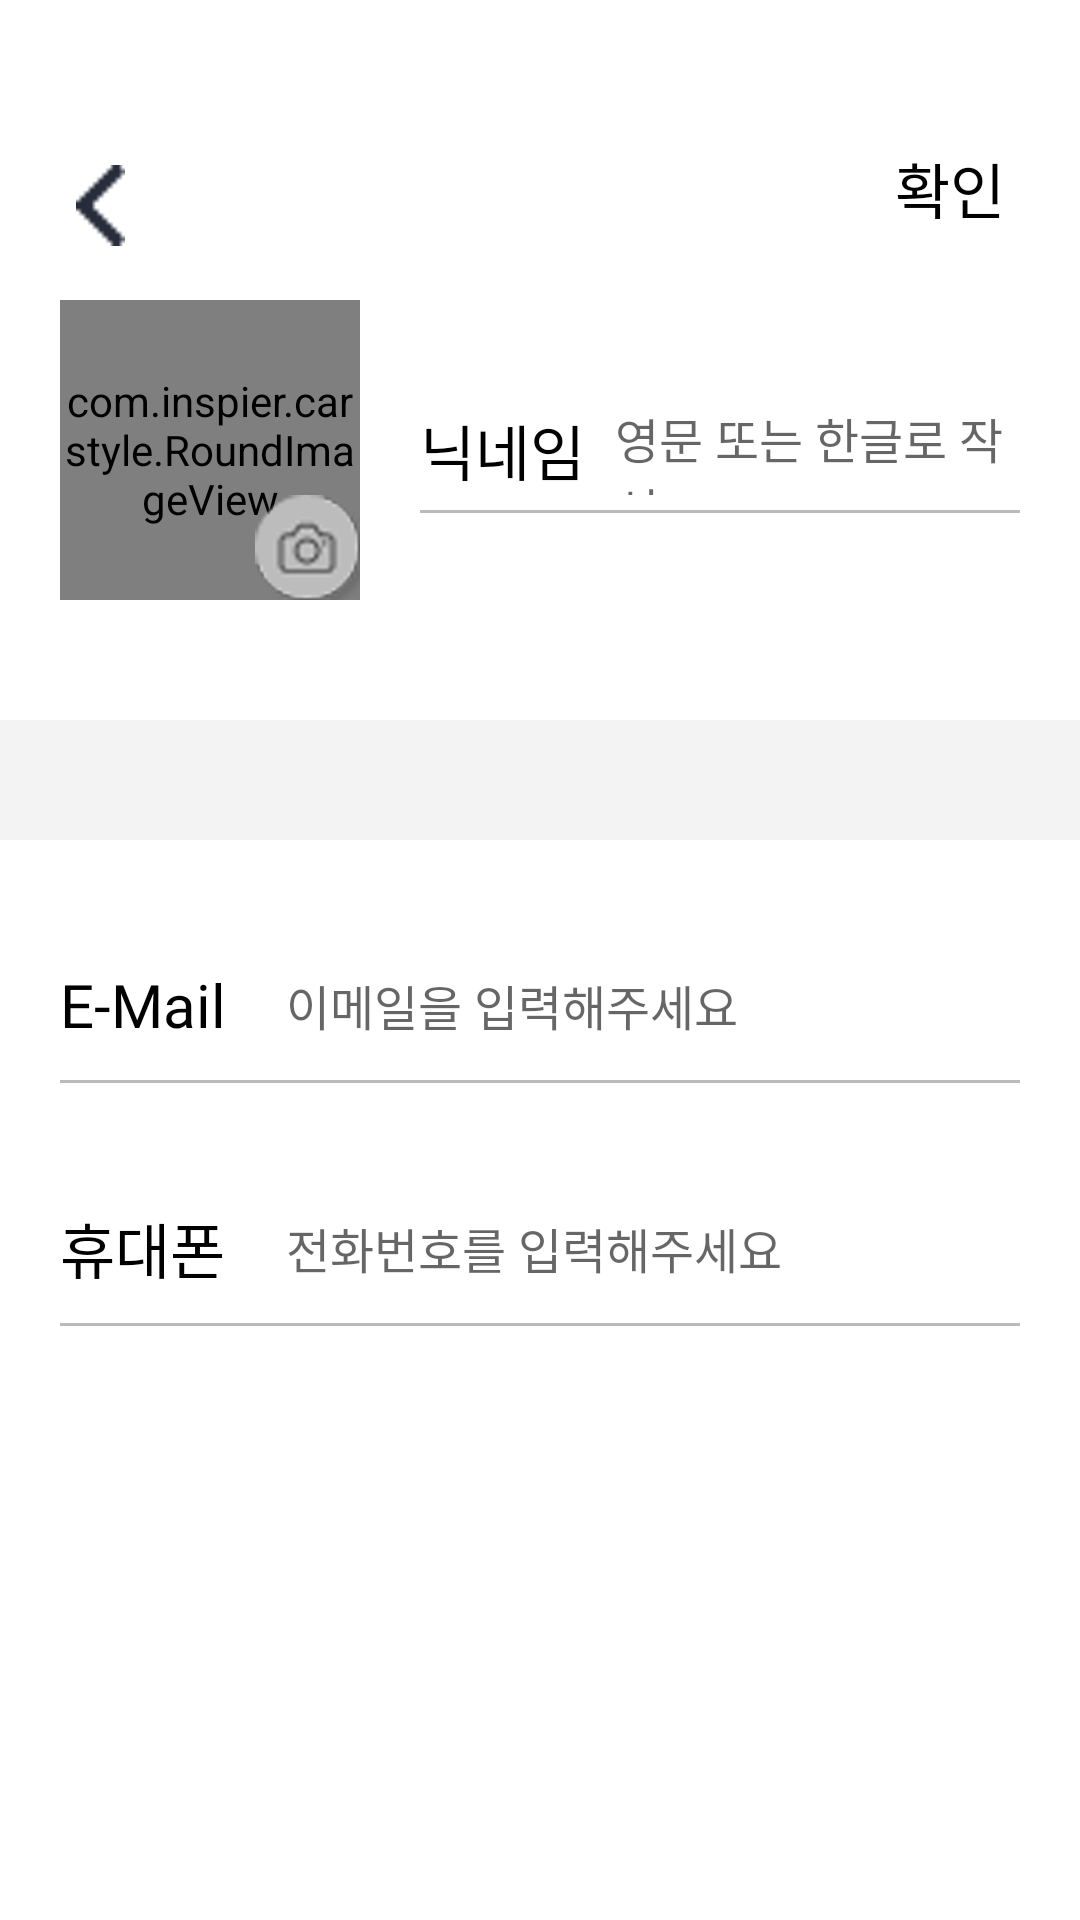

Icon click points for this 1080*1920 phone screenshot, format (x=x, y=y):
back: (x=100, y=205)
photo select: (x=307, y=547)
